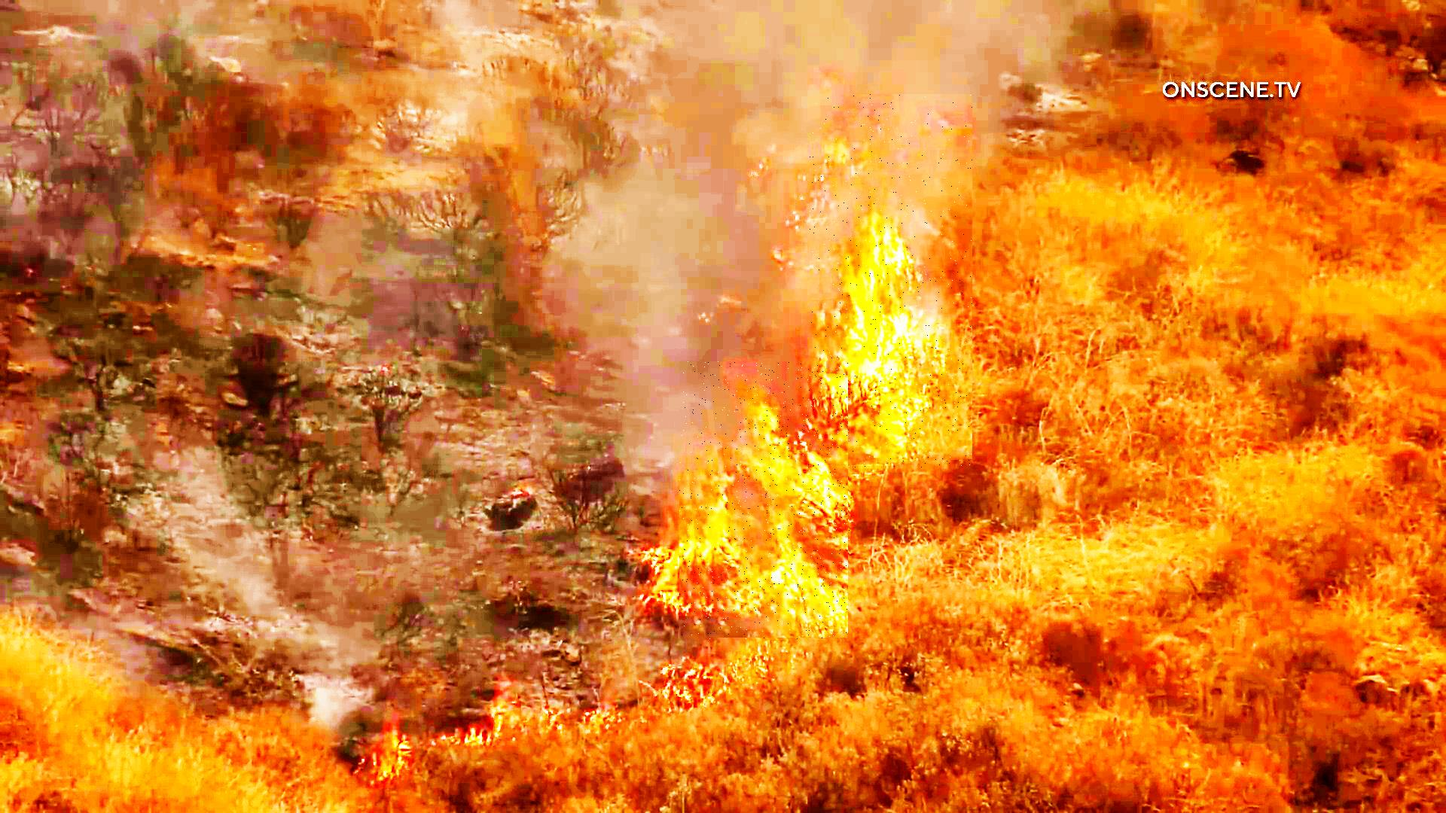fire: (810, 95, 972, 468), (680, 362, 850, 640)
